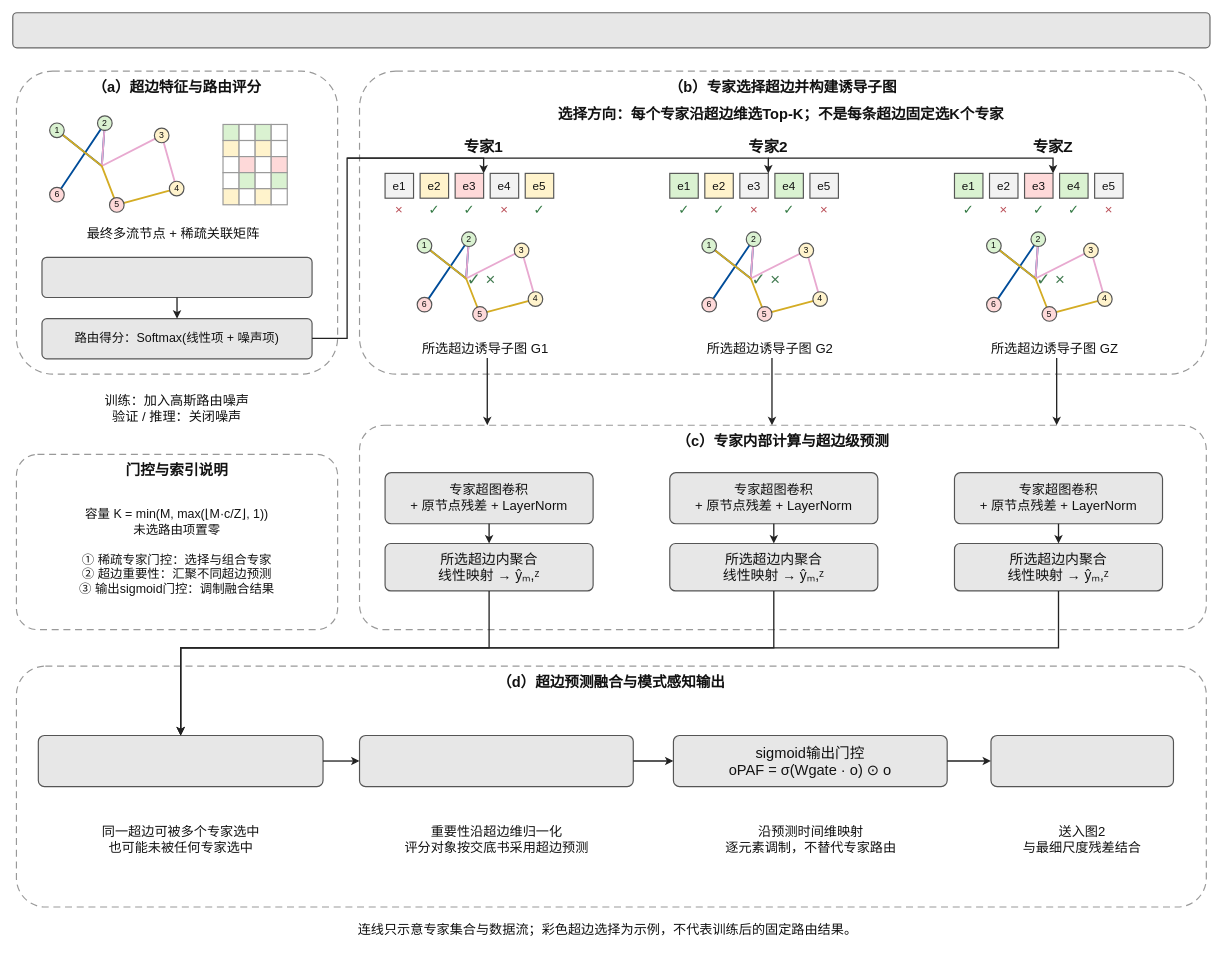
Image size: 1223x953. Some labels were removed from this diagram. Each missing label, with the centre of its shape:
图4 以超边为中心的专家选择与融合示意图: the point at 611,30
按相连节点求均值 → 超边特征 eₘ: the point at 176,277
模式感知融合预测 oPAF: the point at 1082,761
稀疏专家门控合成 ŷₘ = Σᶻ g̃ₘ,ᶻ · ŷₘ,ᶻ: the point at 180,761
超边重要性加权 o = Σₘ αₘ · ŷₘ: the point at 496,761
